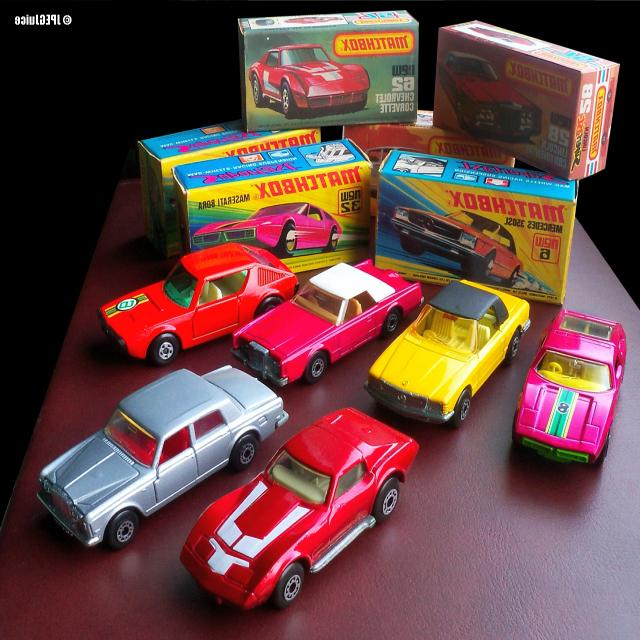Car: (180, 406, 420, 612), (36, 364, 290, 550), (230, 257, 424, 387), (364, 278, 532, 428), (97, 242, 299, 366), (512, 308, 628, 466), (391, 206, 523, 284), (439, 50, 543, 142), (249, 43, 371, 118), (192, 202, 342, 256)
